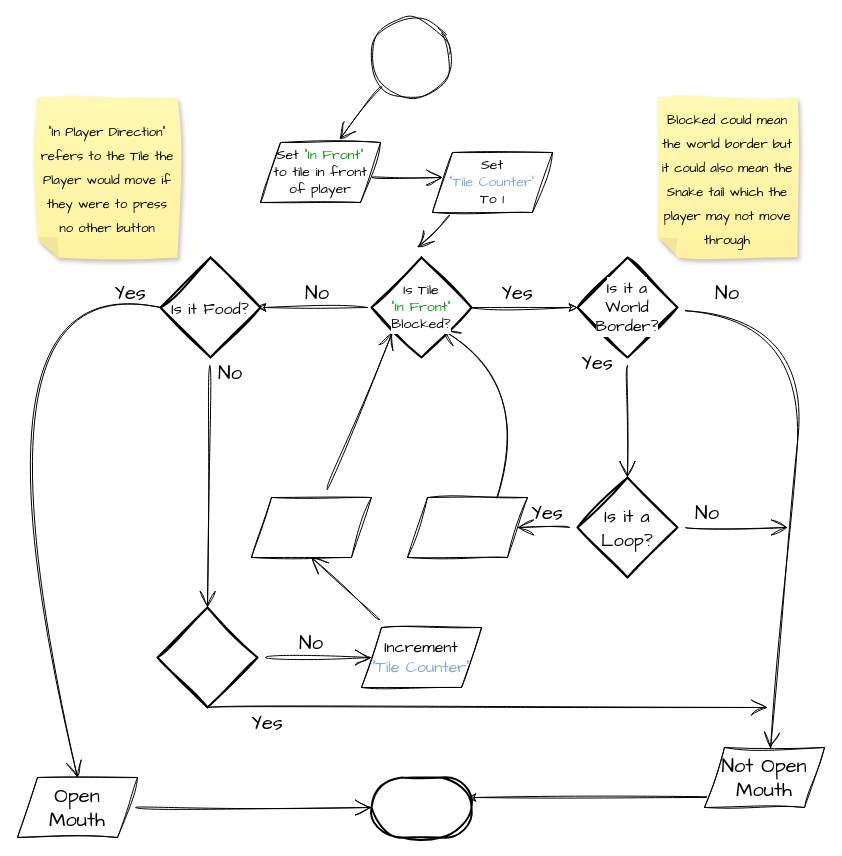
Image size: 842x856. Some labels were removed from this diagram. Each missing label, with the centre of its shape:
End: point 421,807
Is "Tile Counter" >= 2?: point 207,657
Move "In Front" In Player Direction: point 311,527
Set "In Front" To the other side of Loop: point 467,527
Start: point 411,57
